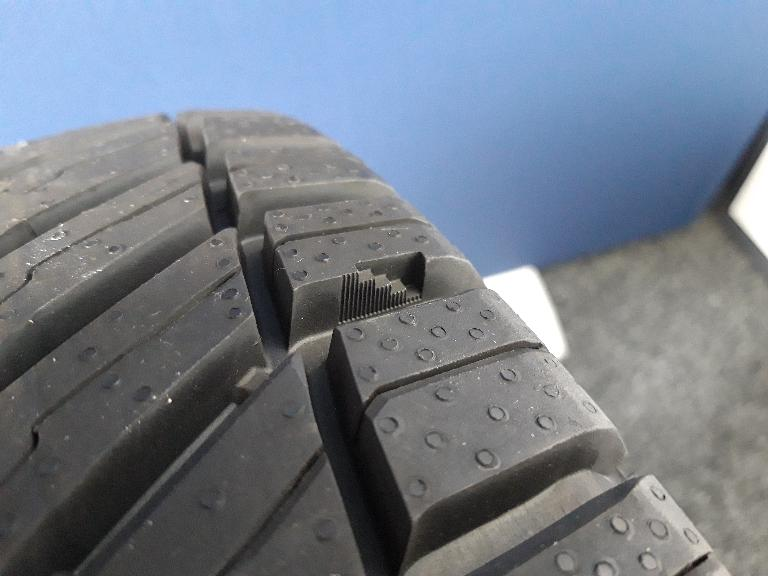temoin:100: (336, 250, 431, 326)
